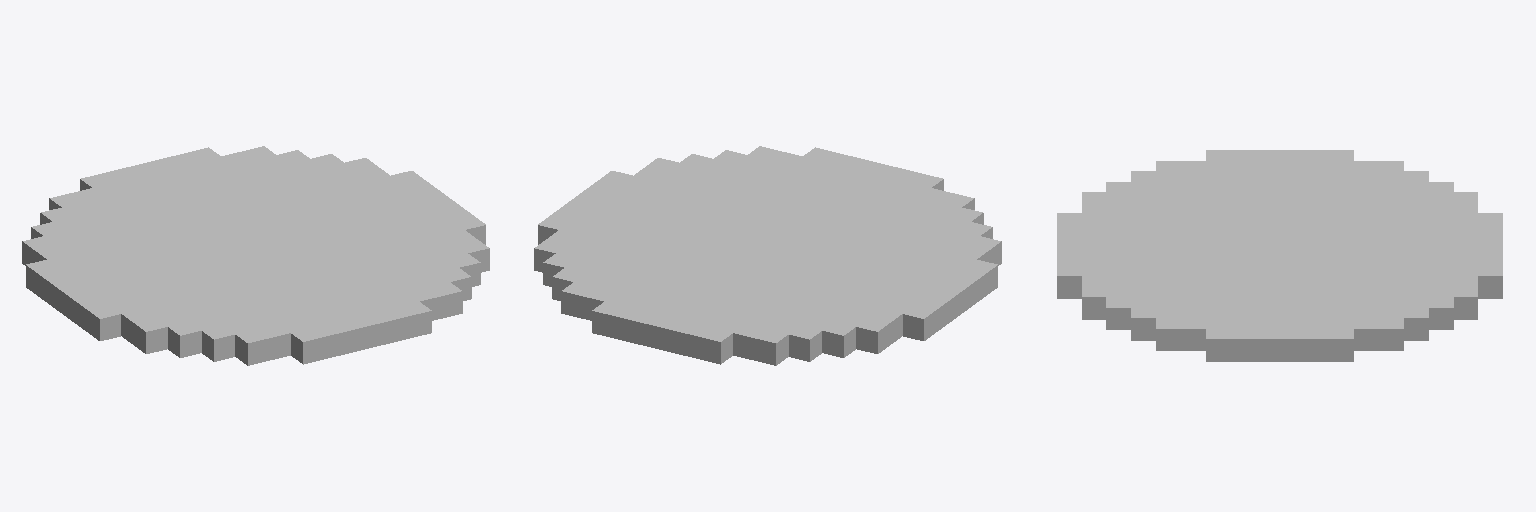
The model's file is Sun.obj.
The picture shows the model from 3 angles: view 1: azimuth 30°, elevation 25°; view 2: azimuth 150°, elevation 25°; view 3: azimuth 270°, elevation 25°; orthographic projection.
Size of the model in its own units: 18 by 1 by 18.